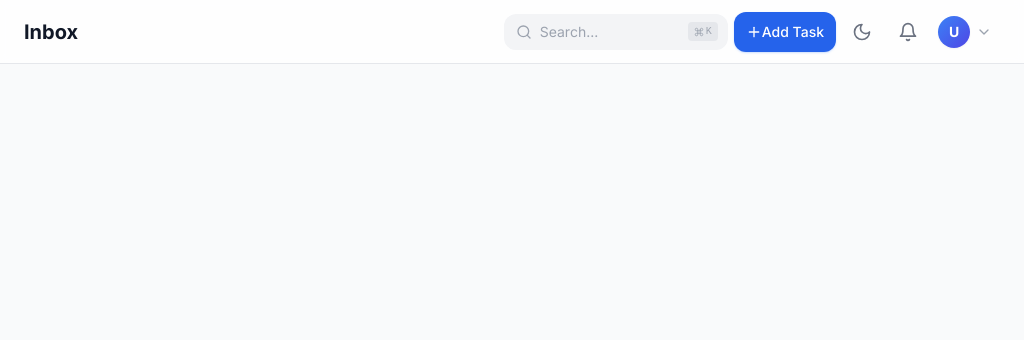
Test: Header notifications › renders notifications loaded from the API
The image size is (1024, 340).
Click the button named "Notifications" at (908, 32), box [888,12,928,52]
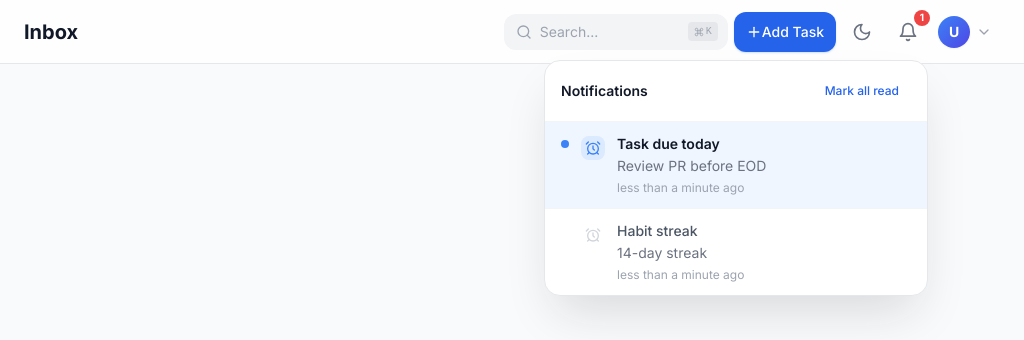
Expected: the text "Task due today" is shown, [617,134,720,152]
Expected: the text "Review PR before EOD" is shown, [617,156,766,174]
Expected: the text "Habit streak" is shown, [617,222,698,238]
